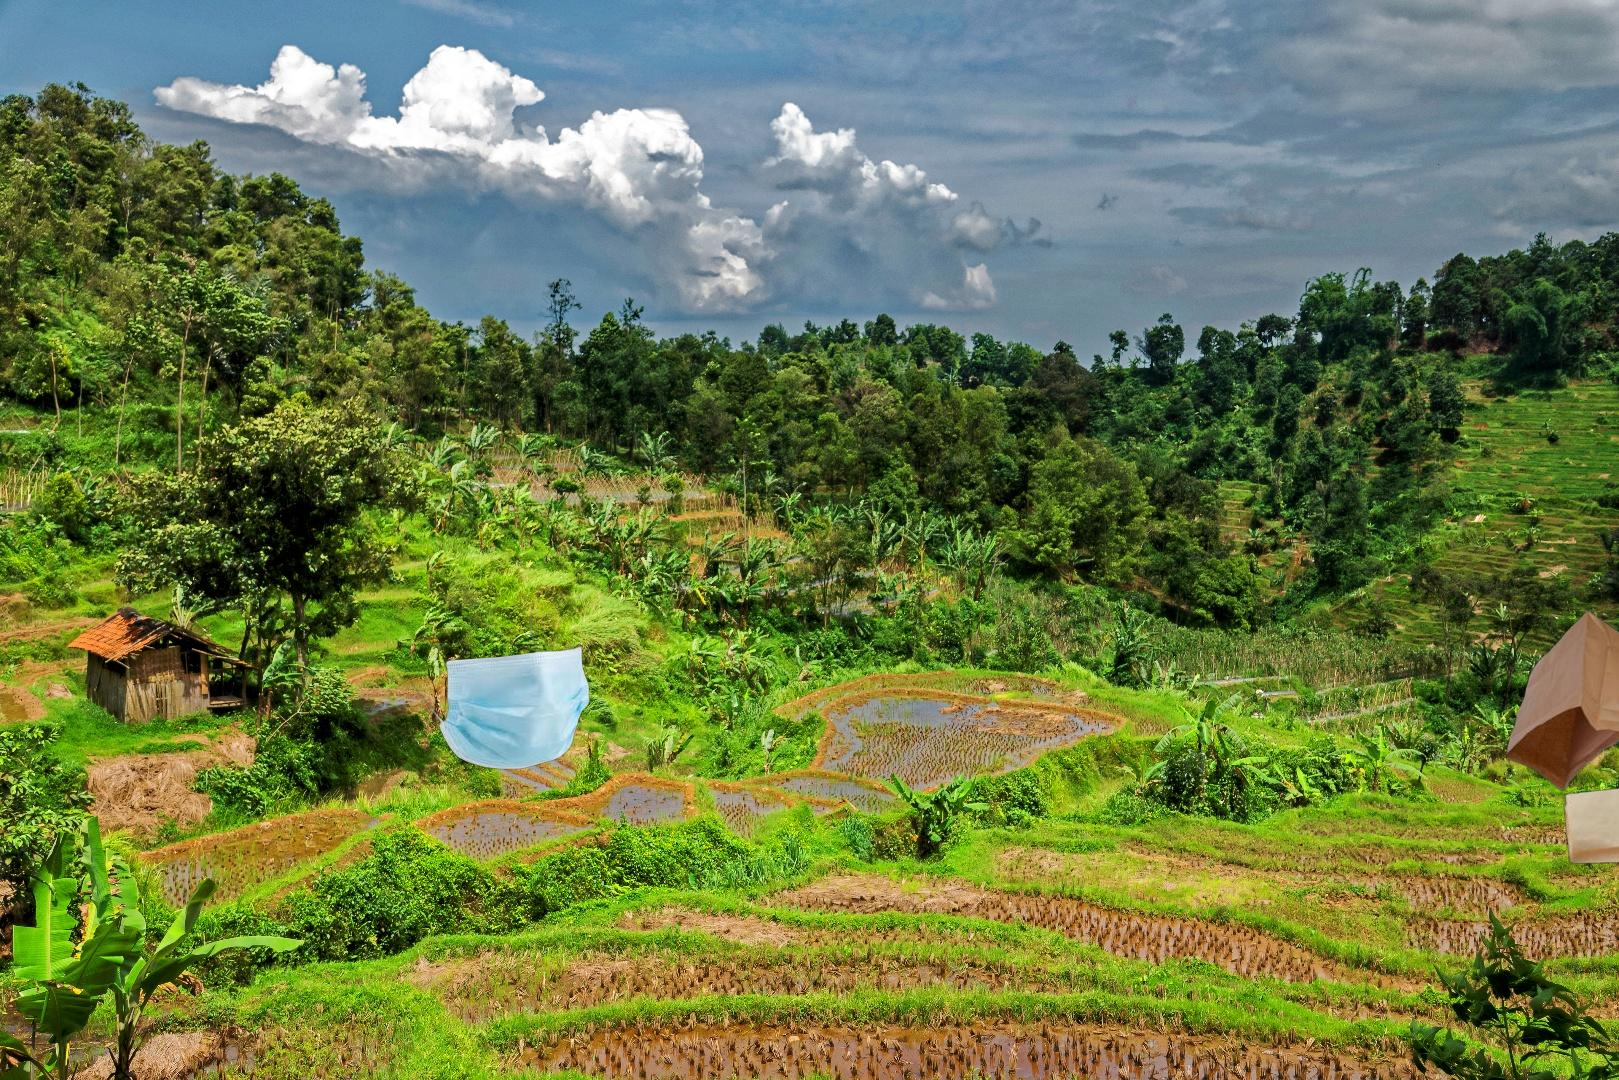paper-bag: (1504, 607, 1619, 867)
trash: (395, 611, 593, 771)
